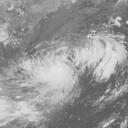cyclone: (11, 33, 127, 109)
